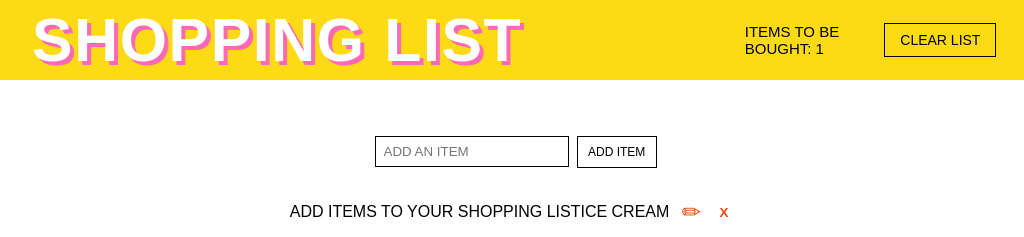
Test: Shopping behavioral list tests › should delete an item from the list
What coordinates should you click on to do the following:
click the button "X"
I would click on:
 (724, 212)
Its box is [713,204,734,221].
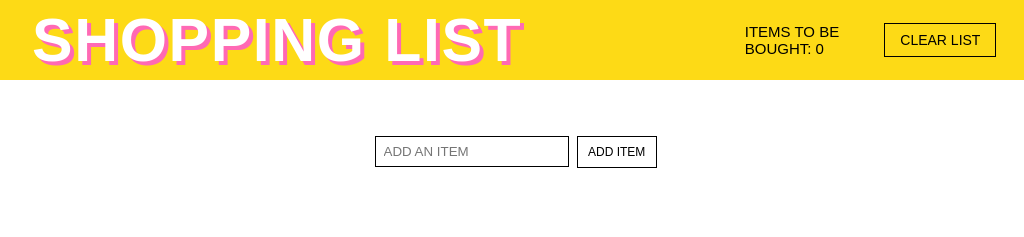
Expected: the text "Add items to your shopping list" is gone
